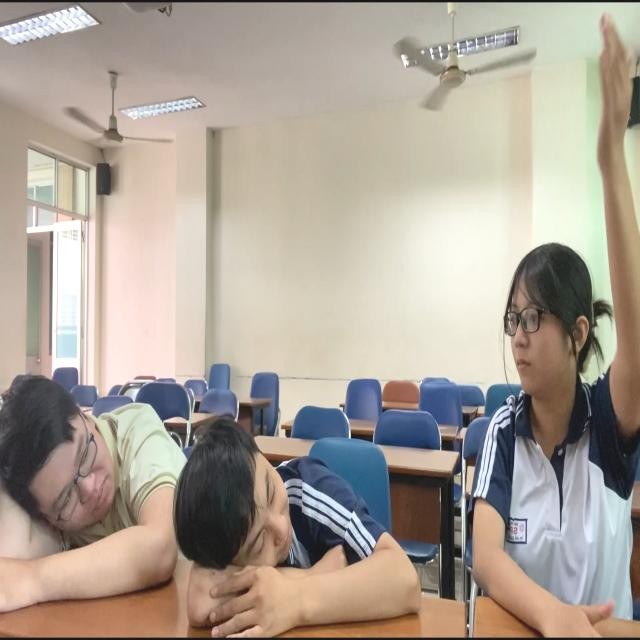raise_hand: (460, 19, 640, 640)
sleep: (180, 408, 423, 640), (1, 363, 187, 606)
